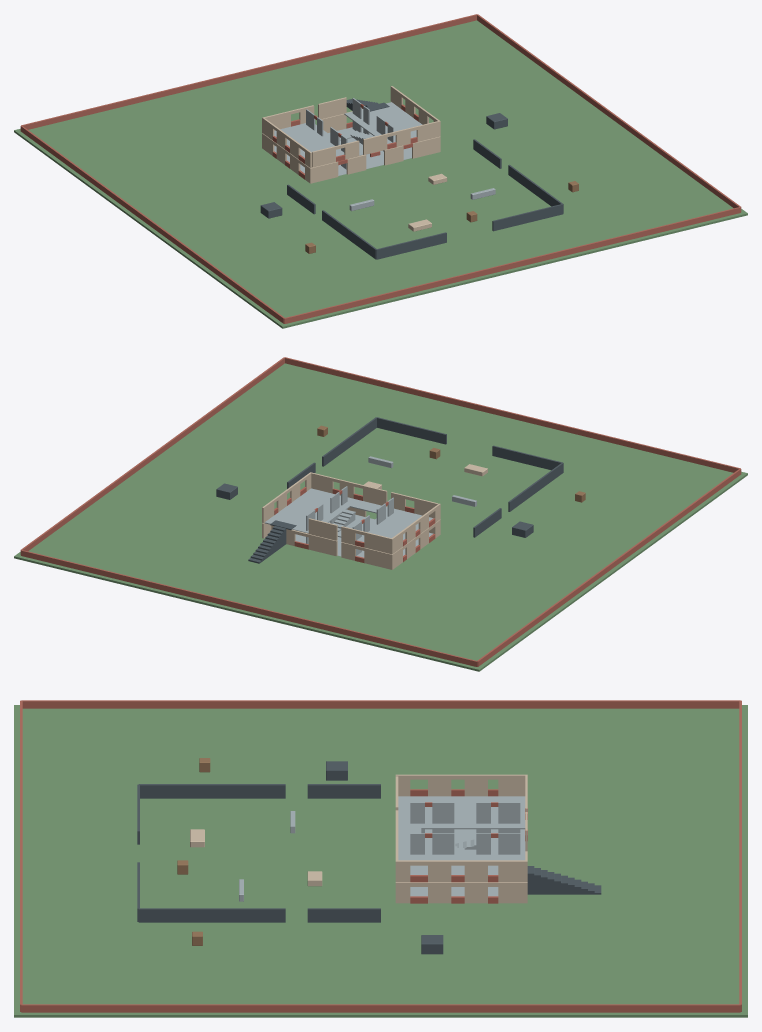
The model's file is courtyard-compound-environment.glb.
The picture shows the model from 3 angles, top to bottom: view 1: azimuth 30°, elevation 25°; view 2: azimuth 150°, elevation 25°; view 3: azimuth 270°, elevation 25°; orthographic projection. The views are drawn at different scales.
Visible parts, largest first — view 1: ground, boundary.south, boundary.north, boundary.west, boundary.east, building.upper-floor-east, building.upper-floor-west, fence.south.east, fence.south.west, fence.west.north, building.ground-finish, fence.east.north; view 2: ground, boundary.north, boundary.south, boundary.west, boundary.east, building.upper-floor-east, building.upper-floor-west, fence.south.east, fence.south.west, fence.west.north, fence.east.north; view 3: ground, boundary.east, boundary.west, building.upper-floor-west, fence.east.north, fence.west.north, building.upper-floor-east, fence.west.south, fence.east.south, building.ground-finish, boundary.south, boundary.north (+7 smaller).
Boxes of the visible parts, box(x1,y1,x2,y2) form: ground: box(14, 20, 747, 328); boundary.south: box(284, 207, 740, 323); boundary.north: box(21, 14, 477, 129); boundary.west: box(20, 126, 284, 323); boundary.east: box(477, 14, 741, 211); building.upper-floor-east: box(344, 102, 422, 143); building.upper-floor-west: box(274, 123, 344, 157); fence.south.east: box(492, 204, 563, 231); fence.south.west: box(376, 232, 446, 259); fence.west.north: box(322, 210, 376, 259); building.ground-finish: box(274, 127, 411, 175); fence.east.north: box(508, 164, 563, 213); ground: box(14, 363, 747, 671); boundary.north: box(21, 550, 477, 666); boundary.south: box(284, 357, 740, 472); boundary.west: box(477, 469, 741, 666); boundary.east: box(20, 357, 284, 554); building.upper-floor-east: box(264, 488, 357, 533); building.upper-floor-west: box(357, 508, 433, 541); fence.south.east: box(376, 417, 446, 444); fence.south.west: box(492, 445, 562, 470); fence.west.north: box(508, 463, 563, 511); fence.east.north: box(322, 417, 376, 466); ground: box(14, 705, 747, 1017); boundary.east: box(21, 1004, 740, 1012); boundary.west: box(21, 700, 740, 708); building.upper-floor-west: box(398, 796, 525, 829); fence.east.north: box(138, 908, 285, 922); fence.west.north: box(138, 784, 285, 798); building.upper-floor-east: box(398, 849, 525, 874); fence.west.south: box(307, 784, 380, 798); fence.east.south: box(307, 908, 380, 922); building.ground-finish: box(410, 829, 525, 896); boundary.south: box(20, 700, 22, 1011); boundary.north: box(739, 700, 741, 1011).
Bounding box in the file's own units: 100 × 6.7 × 100.
